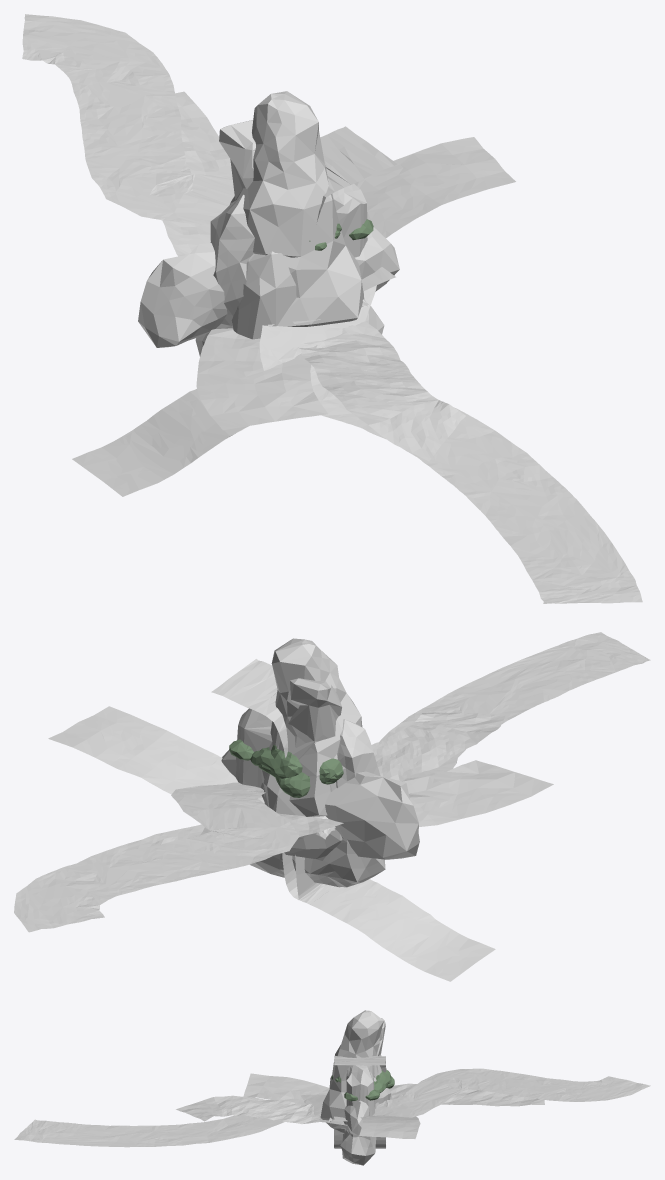
The model's file is Enviroment.fbx.
The picture shows the model from 3 angles, top to bottom: view 1: azimuth 30°, elevation 25°; view 2: azimuth 150°, elevation 25°; view 3: azimuth 270°, elevation 25°; orthographic projection. The views are drawn at different scales.
Visible parts, largest first — view 1: River 2, Large Rock 2, River 3, River, Large Cliff 1, Large Waterfall, Small Water Fall, Large Rock 1, Large Cliff 2; view 2: River 2, River 3, River, Large Waterfall, Large Cliff 1, Large Cliff 2, Large Rock 2, Small Water Fall, Large Rock 1, Large Jungle Tree 1, Large Jungle Tree 2; view 3: River 2, River, River 3, Large Rock 2, Large Cliff 2, Large Cliff 1, Large Waterfall, Large Rock 1, Small Water Fall, Large Jungle Tree 2, Large Jungle Tree 1.
Part boxes in pixels (bbox=[...]): River 2: bbox=[22, 14, 642, 603]; Large Rock 2: bbox=[230, 91, 364, 326]; River 3: bbox=[196, 137, 515, 430]; River: bbox=[162, 91, 465, 461]; Large Cliff 1: bbox=[138, 227, 399, 347]; Large Waterfall: bbox=[72, 126, 397, 496]; Small Water Fall: bbox=[72, 267, 395, 496]; Large Rock 1: bbox=[219, 120, 296, 339]; Large Cliff 2: bbox=[195, 184, 384, 356]; River 2: bbox=[14, 632, 650, 932]; River 3: bbox=[48, 706, 553, 826]; River: bbox=[77, 712, 505, 863]; Large Waterfall: bbox=[211, 659, 495, 979]; Large Cliff 1: bbox=[221, 750, 419, 859]; Large Cliff 2: bbox=[235, 708, 385, 887]; Large Rock 2: bbox=[260, 638, 362, 816]; Small Water Fall: bbox=[282, 852, 495, 981]; Large Rock 1: bbox=[263, 678, 342, 860]; Large Jungle Tree 1: bbox=[229, 739, 343, 797]; Large Jungle Tree 2: bbox=[250, 745, 302, 778]; River 2: bbox=[14, 1068, 650, 1147]; River: bbox=[176, 1083, 544, 1124]; River 3: bbox=[243, 1073, 420, 1138]; Large Rock 2: bbox=[320, 1010, 386, 1128]; Large Cliff 2: bbox=[340, 1065, 376, 1165]; Large Cliff 1: bbox=[342, 1100, 369, 1135]; Large Waterfall: bbox=[334, 1056, 385, 1142]; Large Rock 1: bbox=[332, 1018, 392, 1133]; Small Water Fall: bbox=[334, 1116, 385, 1148]; Large Jungle Tree 2: bbox=[331, 1070, 391, 1092]; Large Jungle Tree 1: bbox=[344, 1076, 394, 1101].
Size of the model in its own units: 17762 by 12983 by 45300.
